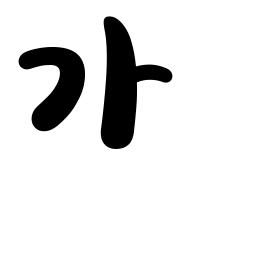gaji: (98, 52, 151, 97)
